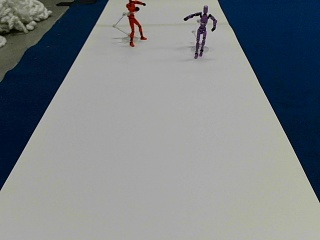pedestrian: (183, 5, 216, 57), (124, 0, 147, 46)
